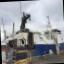fishing boat: (0, 12, 64, 59)
